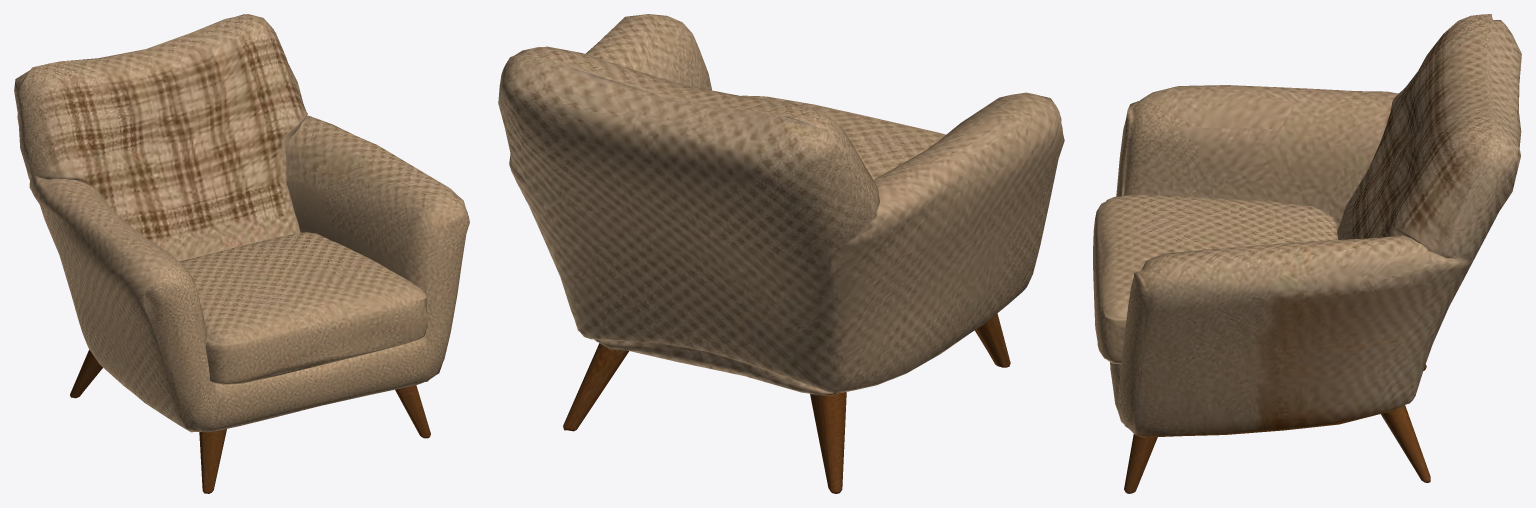
File: armchair_beige__1.glb
3 renders of one model, left to right at view 1: azimuth 30°, elevation 25°; view 2: azimuth 150°, elevation 25°; view 3: azimuth 270°, elevation 25°, orthographic. The views are drawn at different scales.
Visible parts, largest first — view 1: Mesh_0.047; view 2: Mesh_0.047; view 3: Mesh_0.047.
Boxes of the visible parts, x1=… form: Mesh_0.047: x1=14, y1=14, x2=469, y2=493; Mesh_0.047: x1=498, y1=14, x2=1064, y2=493; Mesh_0.047: x1=1093, y1=14, x2=1521, y2=493.
Bounding box in the file's own units: 0.9763 × 0.86 × 0.9535.
1 material, 1 textured.
